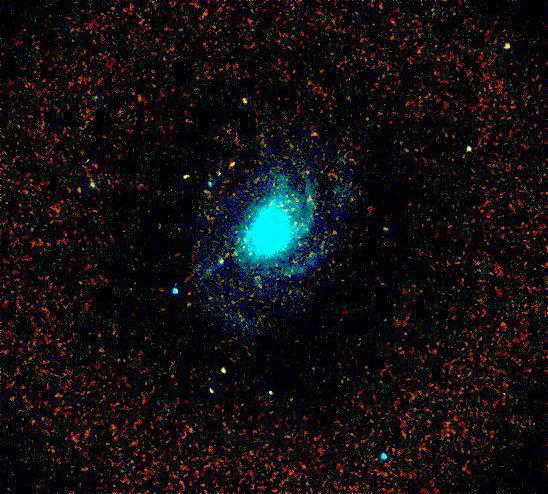star: (62, 175, 92, 205)
